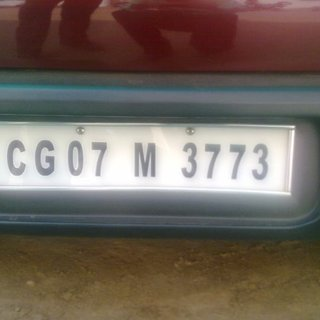number_plate: (3, 117, 297, 205)
